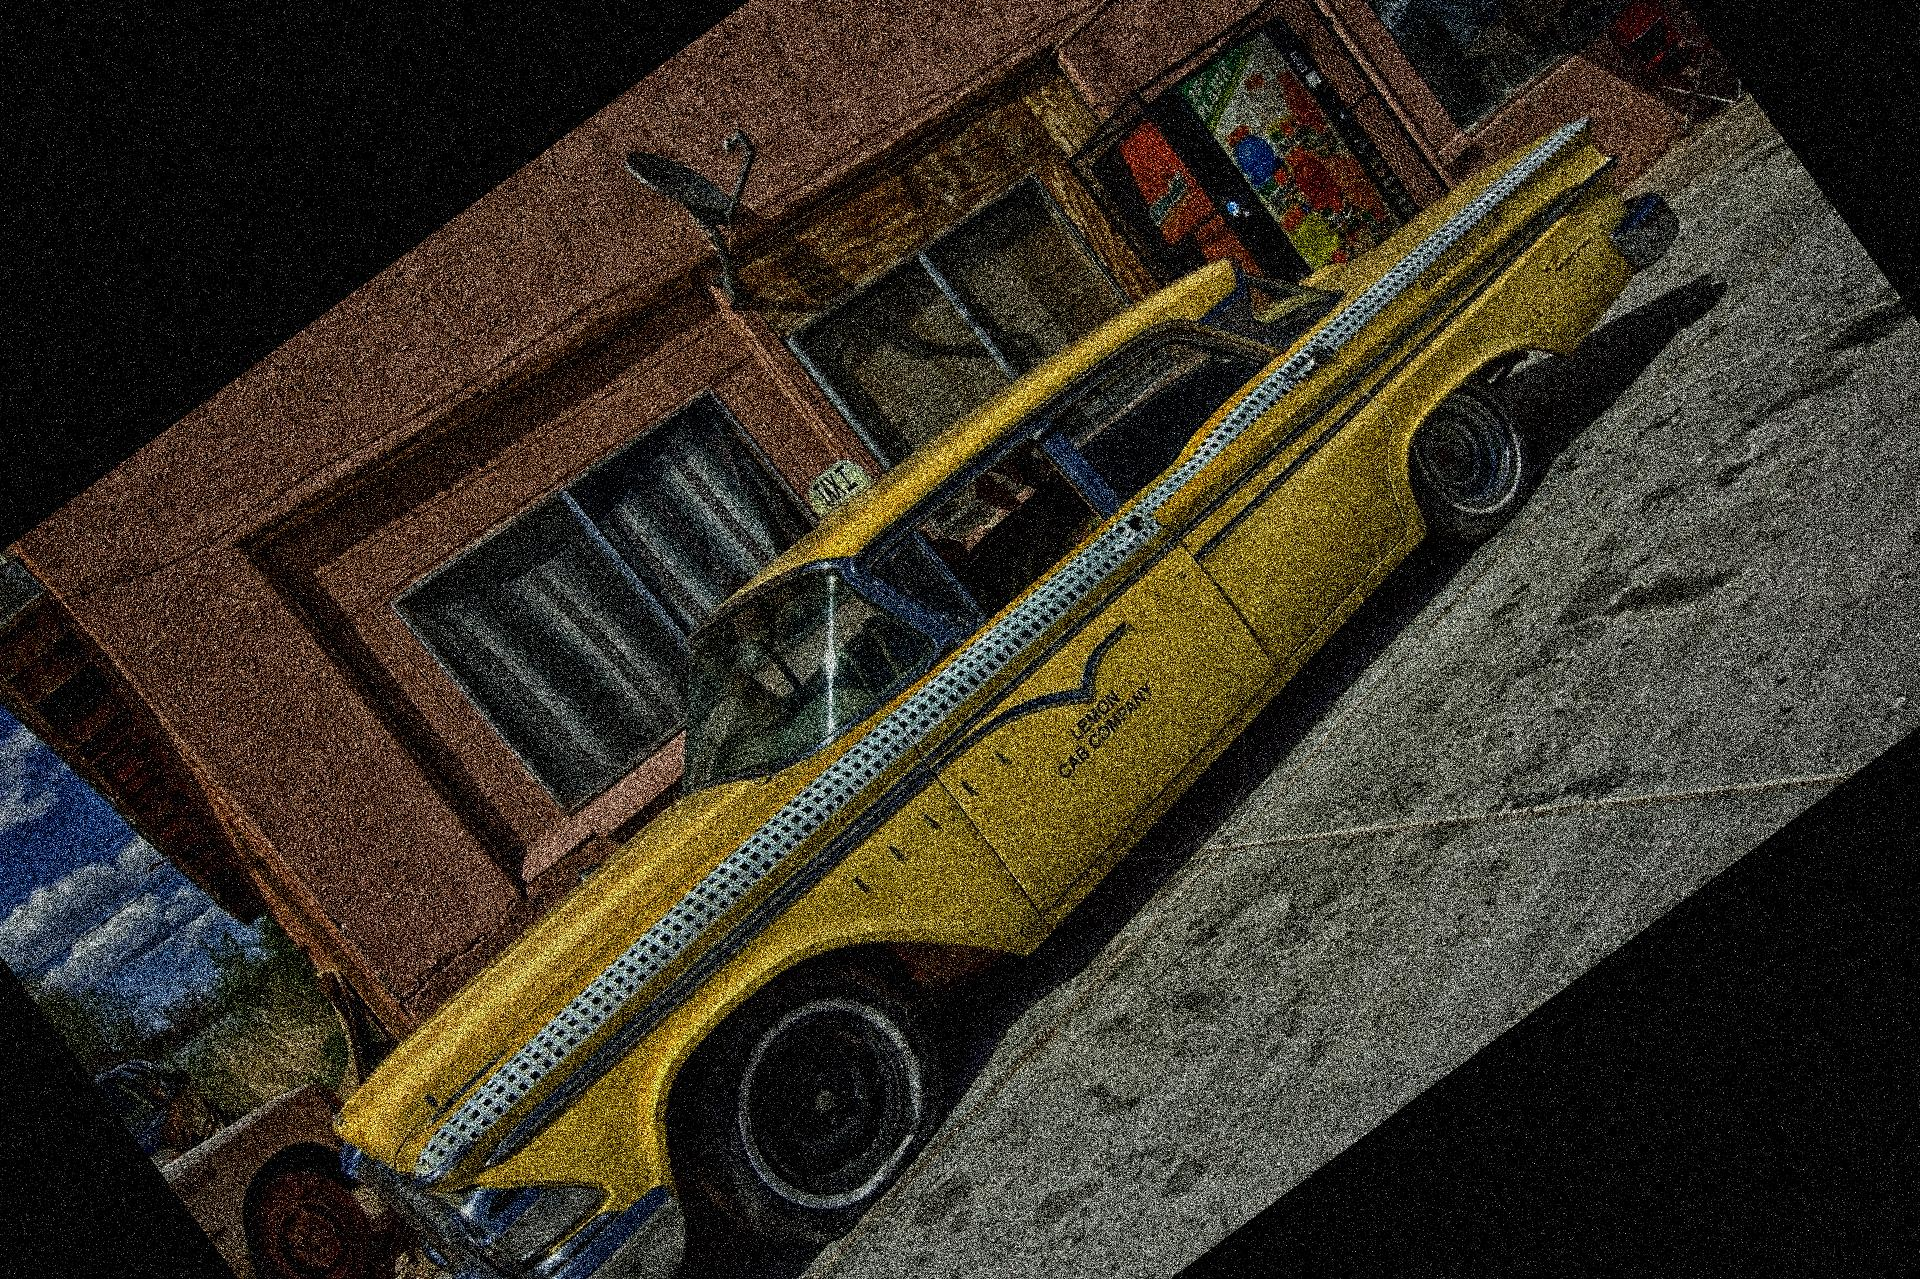taxi: (278, 111, 1664, 1250)
